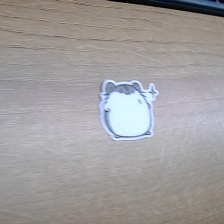mouse: (97, 77, 158, 143)
